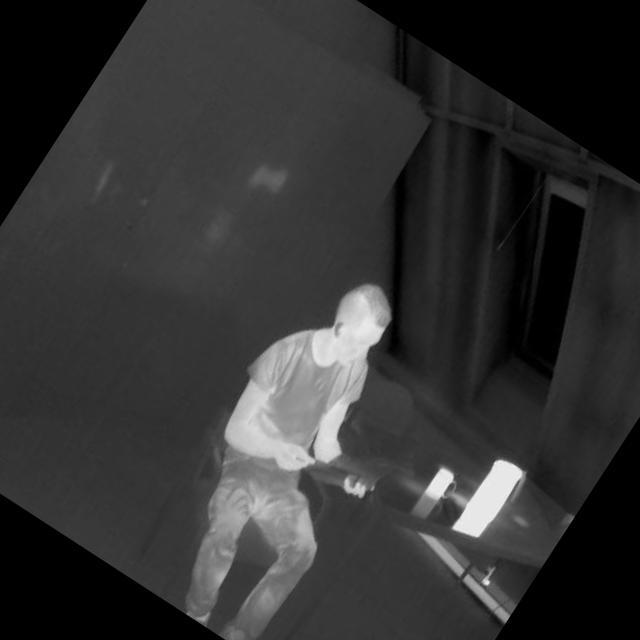person: (115, 241, 475, 640)
